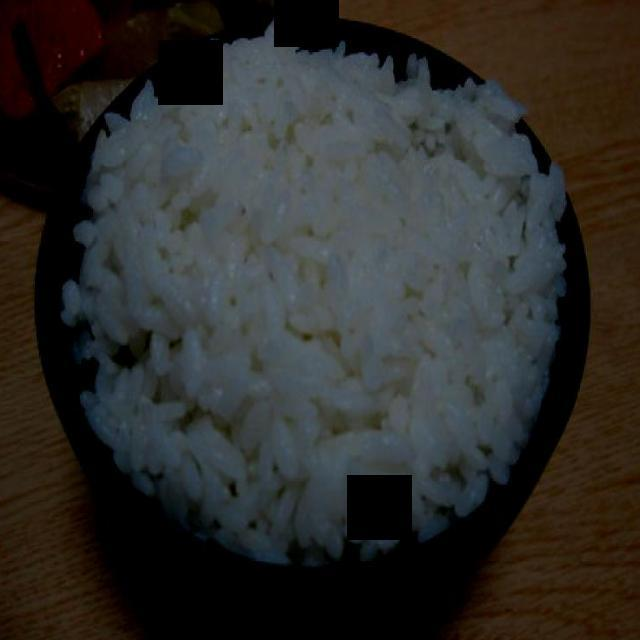rice: (58, 17, 565, 573)
